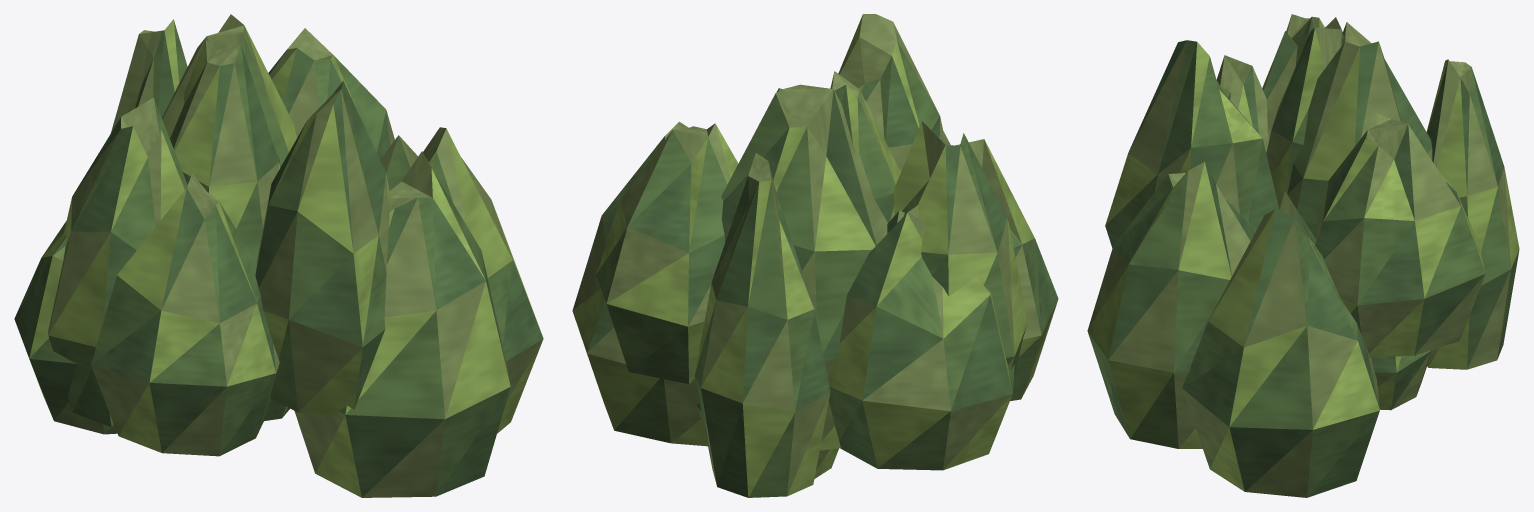
File: bush_leafy_03.fbx
3 views of the same model, side by side, from view 1: azimuth 30°, elevation 25°; view 2: azimuth 150°, elevation 25°; view 3: azimuth 270°, elevation 25° (orthographic). The views are drawn at different scales.
Visible parts, largest first — view 1: bush_leafy_03; view 2: bush_leafy_03; view 3: bush_leafy_03.
Part boxes in pixels (bbox=[...]): bush_leafy_03: bbox=[14, 14, 543, 497]; bush_leafy_03: bbox=[572, 14, 1058, 497]; bush_leafy_03: bbox=[1087, 14, 1519, 497].
Size of the model in its own units: 169 by 140 by 150.
1 material, 1 textured.
